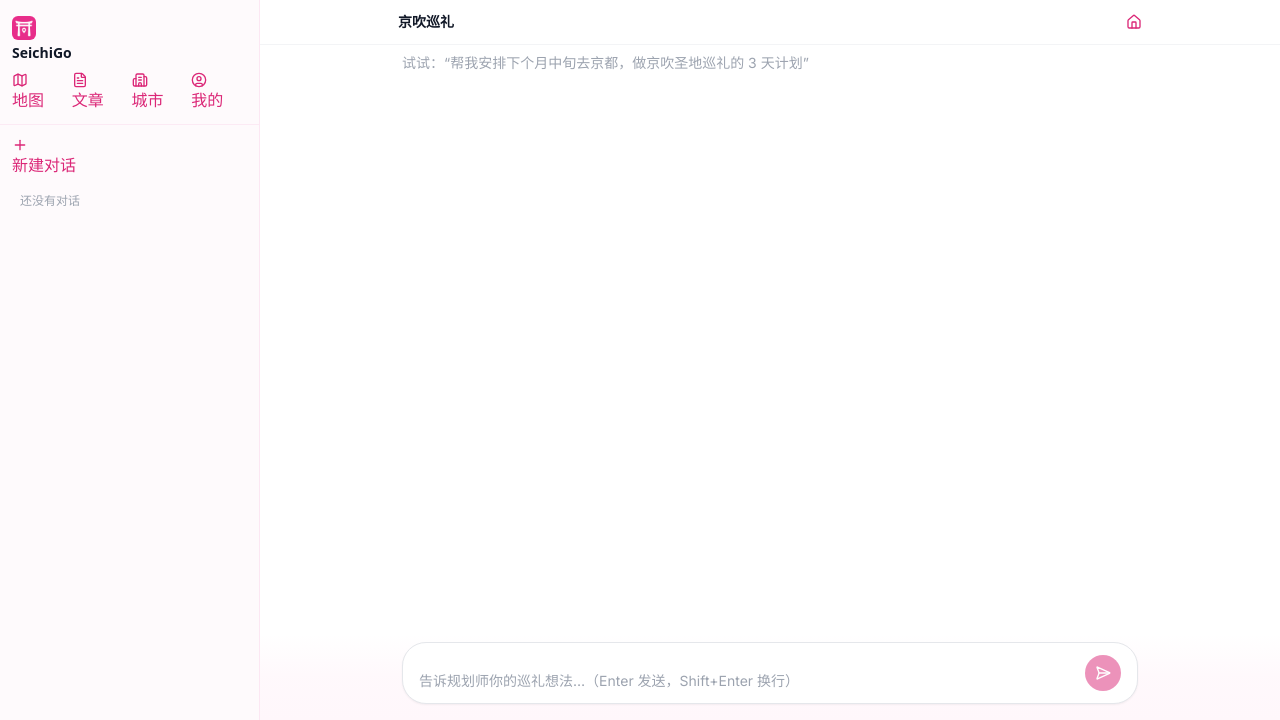
Test case: M5 「已停止」定格进历史思维链 › 停止后本轮遥测定格为「已停止」留在时间线上，随后的 done 不清掉它
This screenshot has width=1280, height=720.
In the text box with placeholder "告诉规划师你的巡礼想法…（Enter 发送，Shift+Enter 换行）": (748, 681) [419, 671, 1077, 691], type "帮我规划宇治 3 天"
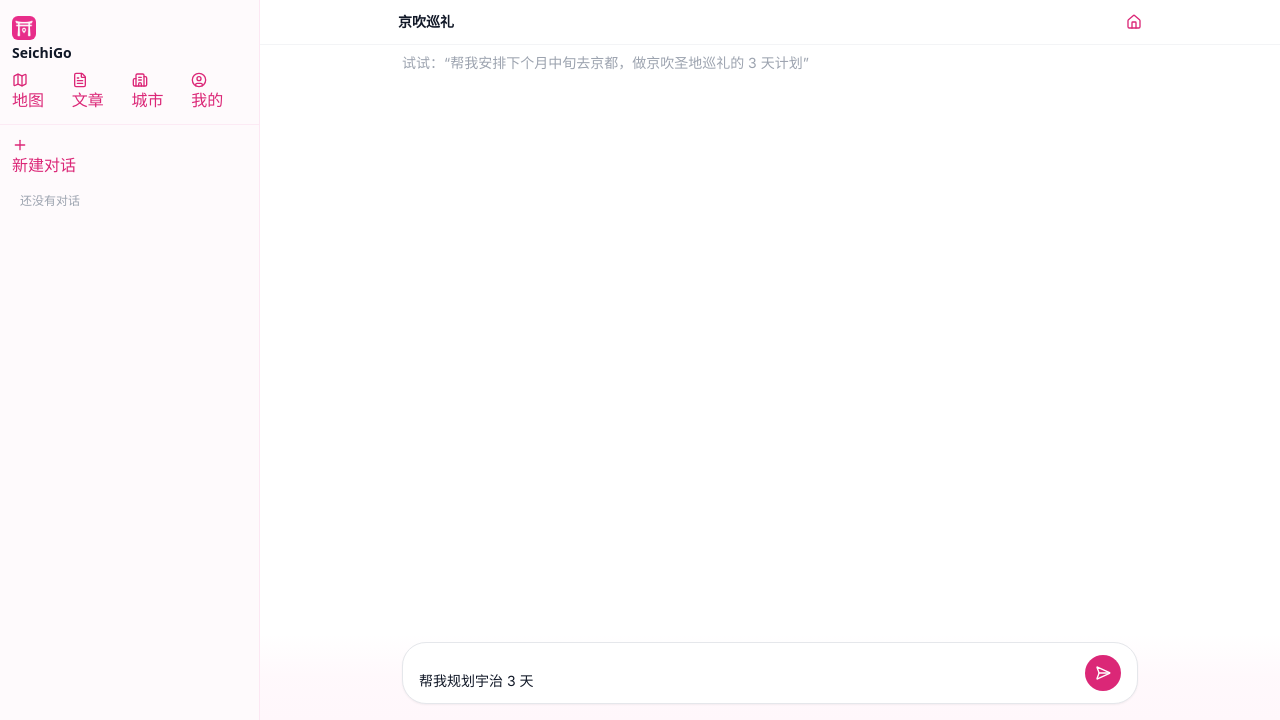
Click the button named "发送": (1103, 673) [1085, 655, 1121, 691]
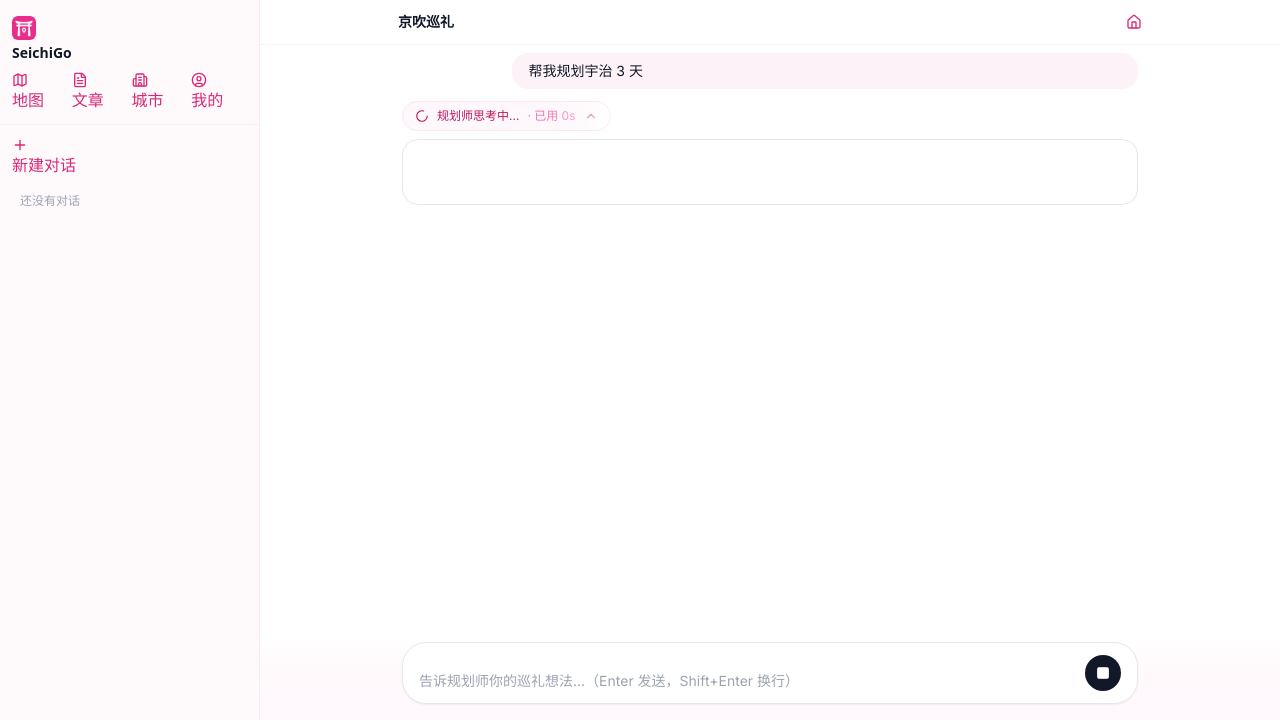
Expected: the button named "停止" is shown
Click the button named "停止": (1103, 673) [1085, 655, 1121, 691]
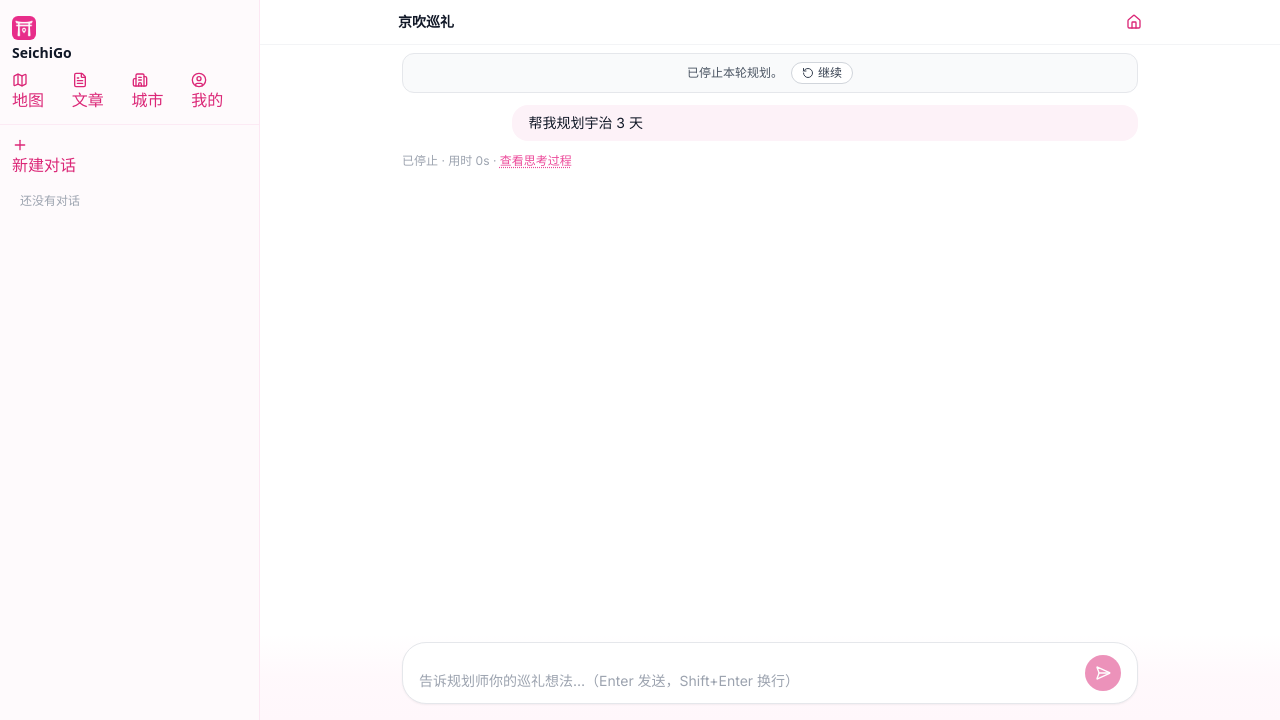
Expected: the text "已停止本轮规划。 继续" is shown, [687, 62, 853, 84]
Click the button "查看思考过程": (536, 161) [500, 153, 572, 169]
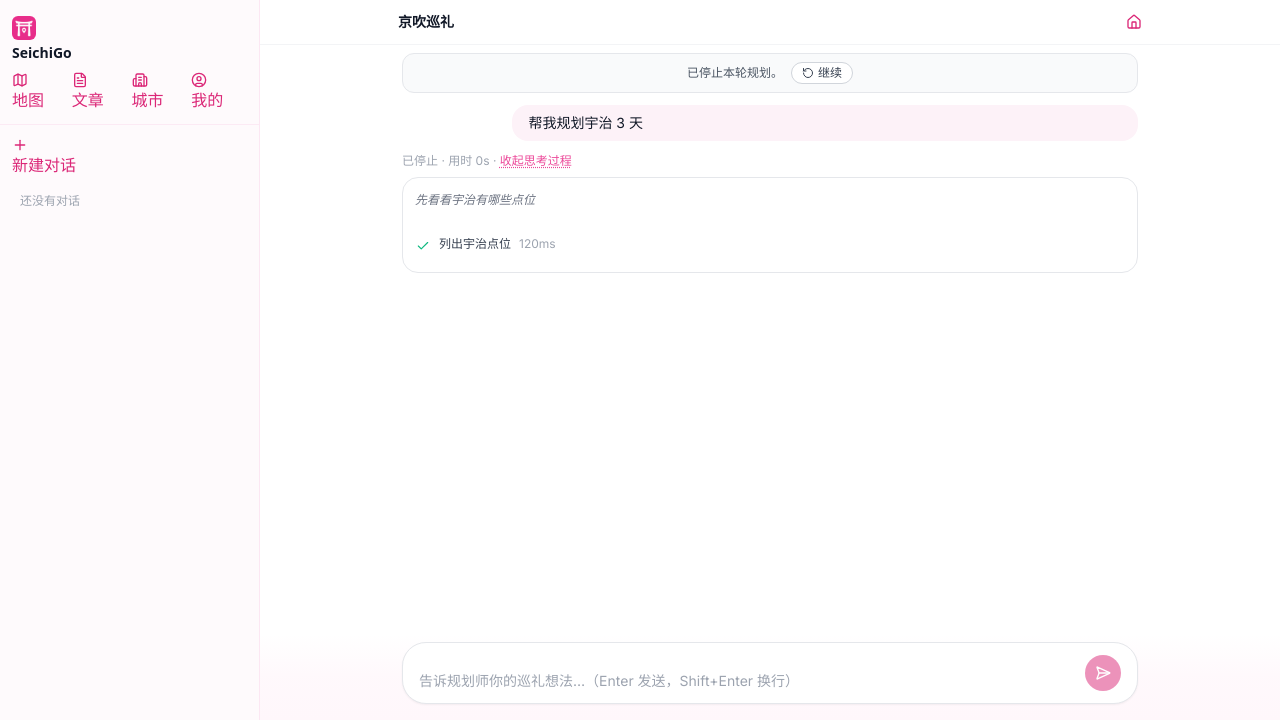
Expected: the text "先看看宇治有哪些点位" is shown, [415, 192, 535, 207]
